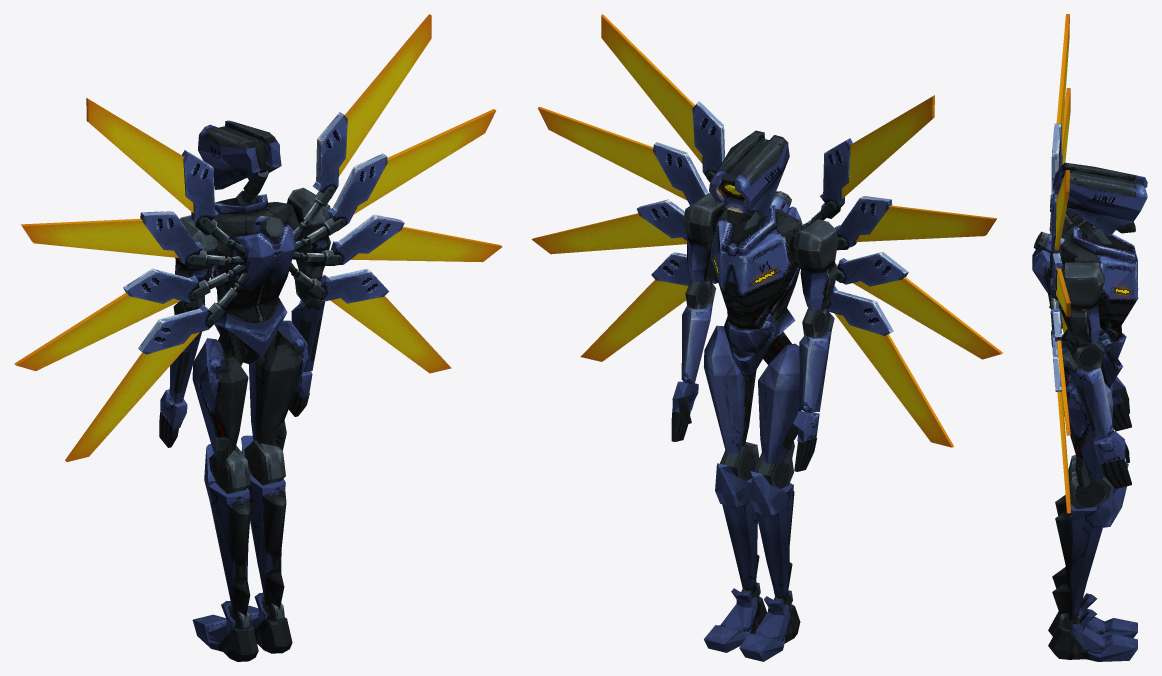
3 views of the same model, side by side, from view 1: azimuth 30°, elevation 25°; view 2: azimuth 150°, elevation 25°; view 3: azimuth 270°, elevation 25° (orthographic). The views are drawn at different scales.
Parts seen in each view (by area): view 1: v1_mdl_0, v1_mdl_4, v1_mdl_1, v1_mdl_5, v1_mdl_3, v1_mdl_2, v1_mdl_6, v1_mdl_7, v1_mdl_8; view 2: v1_mdl_0, v1_mdl_1, v1_mdl_5, v1_mdl_6, v1_mdl_4, v1_mdl_3, v1_mdl_2, v1_mdl_7, v1_mdl_8; view 3: v1_mdl_0, v1_mdl_2, v1_mdl_8, v1_mdl_1, v1_mdl_7, v1_mdl_6, v1_mdl_3.
Part boxes in pixels (bbox=[...]): v1_mdl_0: bbox=[159, 120, 330, 661]; v1_mdl_4: bbox=[14, 264, 246, 370]; v1_mdl_1: bbox=[293, 14, 431, 240]; v1_mdl_5: bbox=[65, 272, 249, 461]; v1_mdl_3: bbox=[21, 211, 244, 267]; v1_mdl_2: bbox=[86, 98, 244, 254]; v1_mdl_6: bbox=[294, 109, 496, 252]; v1_mdl_7: bbox=[292, 214, 502, 265]; v1_mdl_8: bbox=[288, 262, 451, 373]; v1_mdl_0: bbox=[671, 130, 838, 661]; v1_mdl_1: bbox=[601, 14, 724, 182]; v1_mdl_5: bbox=[800, 268, 953, 447]; v1_mdl_6: bbox=[538, 106, 708, 205]; v1_mdl_4: bbox=[835, 252, 1002, 359]; v1_mdl_3: bbox=[835, 196, 996, 250]; v1_mdl_2: bbox=[801, 95, 934, 227]; v1_mdl_7: bbox=[531, 199, 687, 254]; v1_mdl_8: bbox=[580, 252, 717, 361]; v1_mdl_0: bbox=[1032, 162, 1147, 661]; v1_mdl_2: bbox=[1049, 14, 1069, 234]; v1_mdl_8: bbox=[1048, 292, 1070, 513]; v1_mdl_1: bbox=[1046, 170, 1069, 275]; v1_mdl_7: bbox=[1047, 285, 1070, 435]; v1_mdl_6: bbox=[1048, 253, 1070, 316]; v1_mdl_3: bbox=[1061, 88, 1070, 165].
Bounding box in the file's own units: 1.58 × 1.85 × 0.3487.
Materials: 2 (2 with a texture image).
